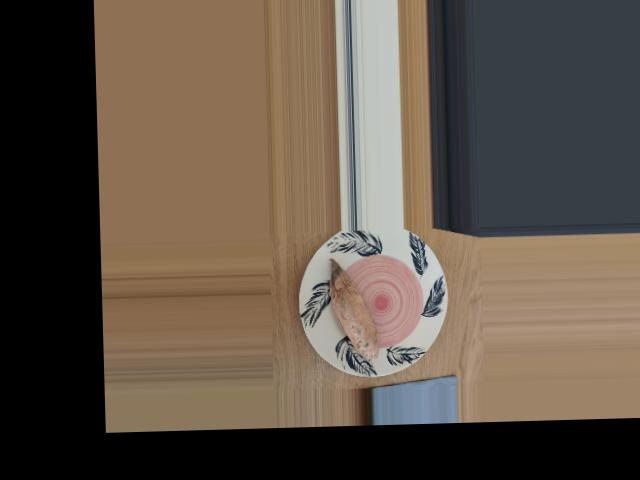sweet_potato: (328, 267, 382, 354)
